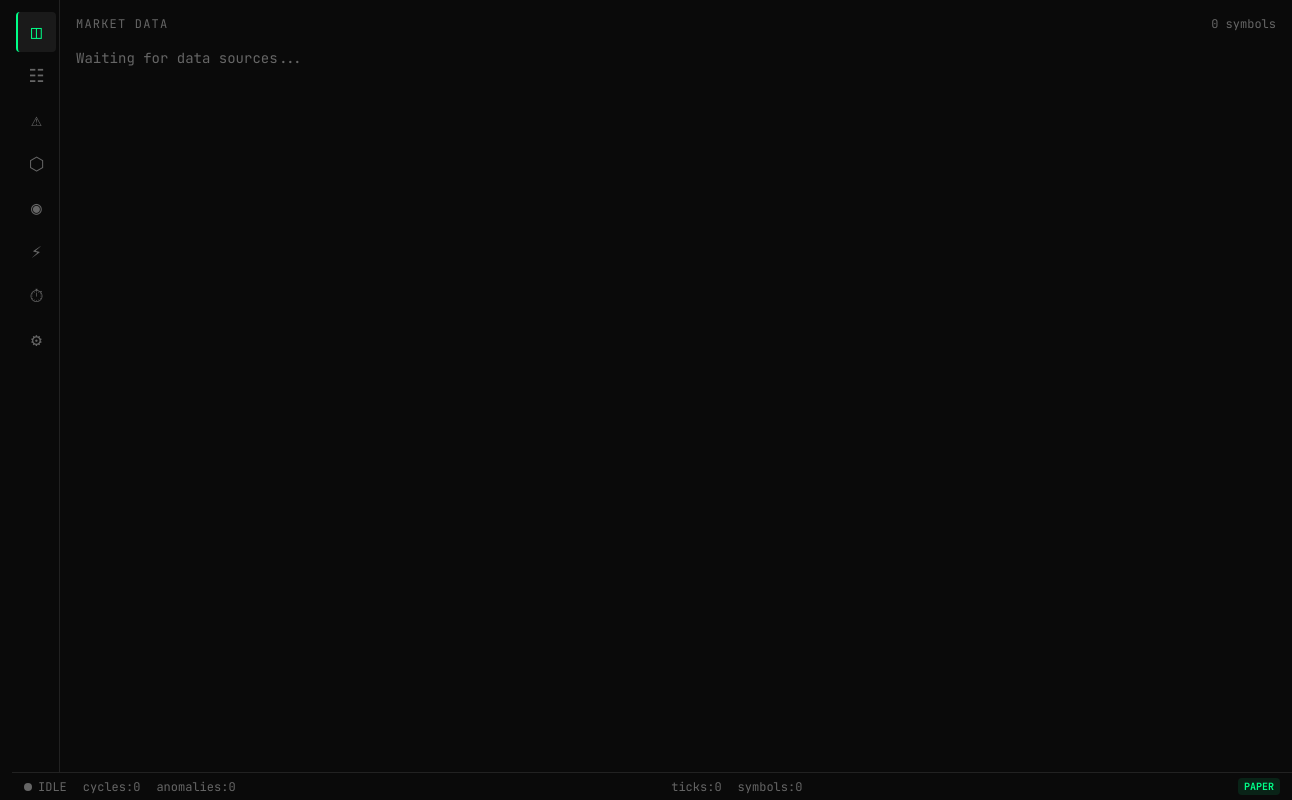
Test: App shell › switches pages on sidebar click
Click the button titled "Anomalies".
click(36, 120)  # box [16,100,56,140]
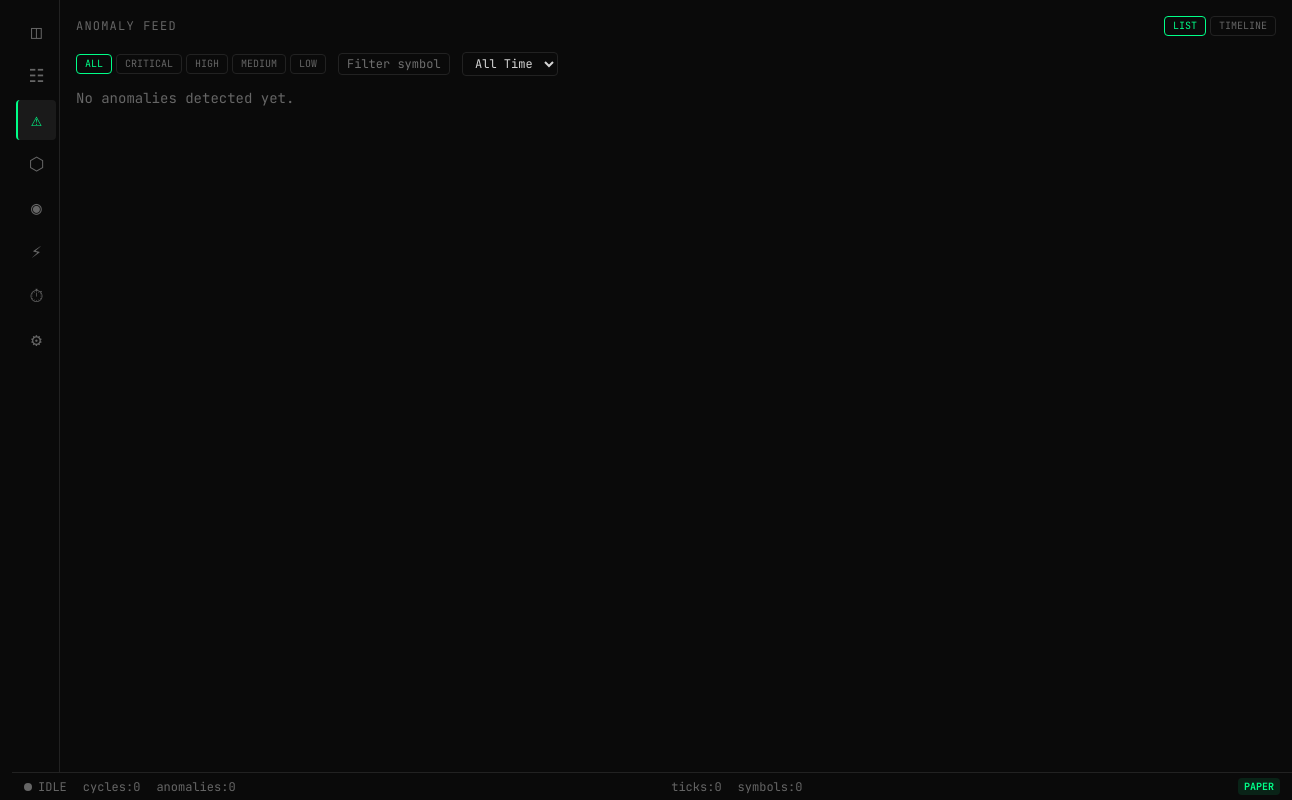
expect the heading "Anomaly Feed" is shown: met, box [76,18,177,34]
